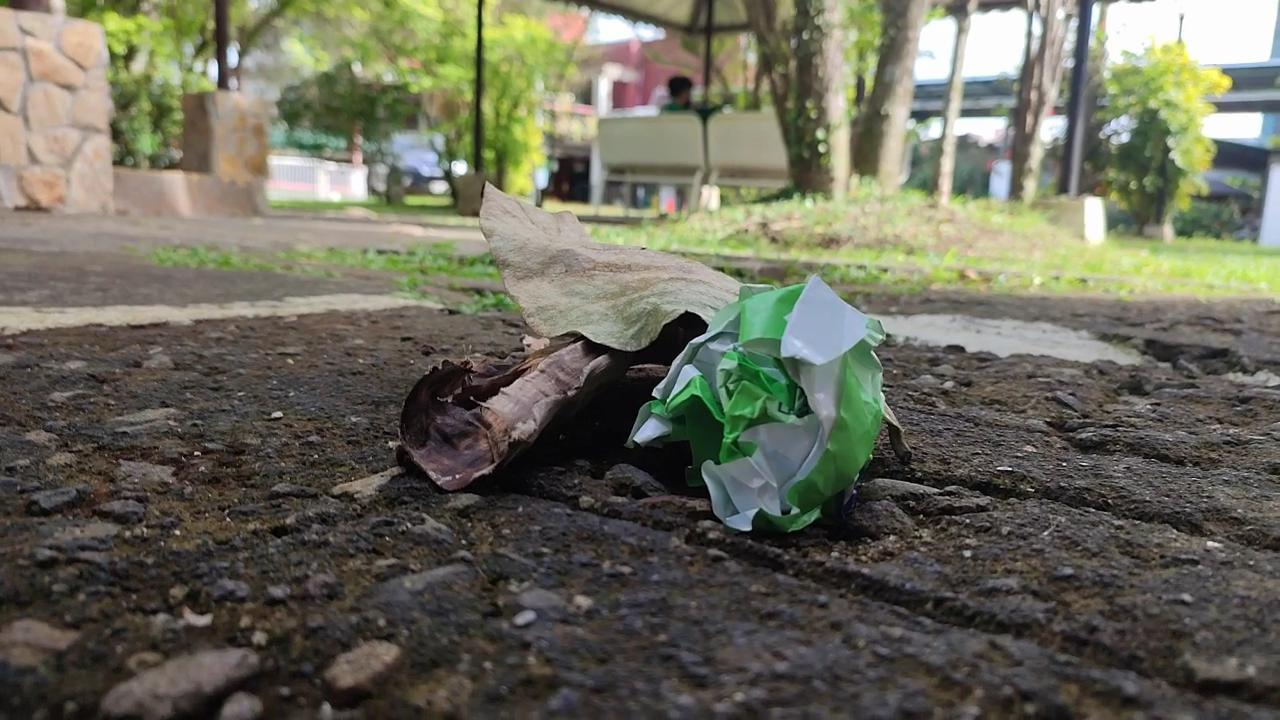Paper: (611, 254, 896, 550)
